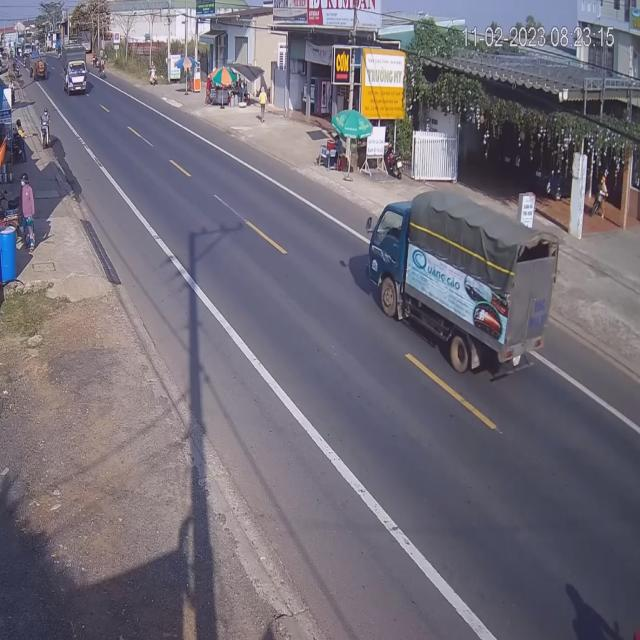car: (60, 44, 89, 95)
motorbike: (40, 109, 51, 150)
truck: (370, 146, 552, 378)
